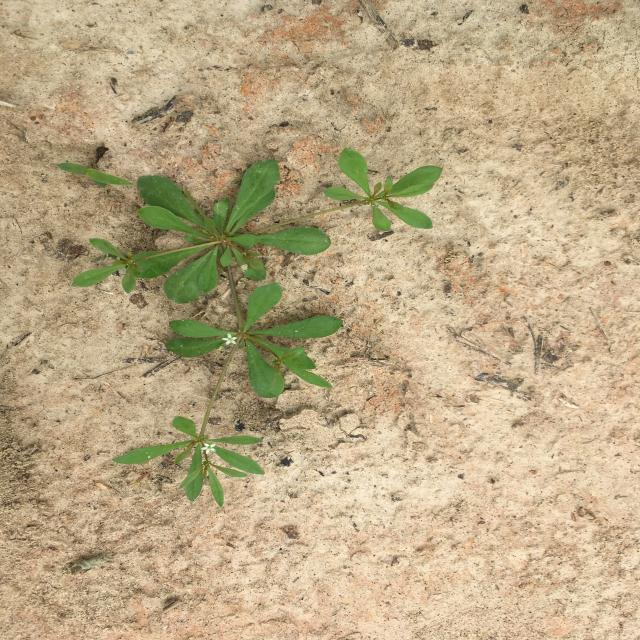Carpetweed: (71, 148, 443, 507)
